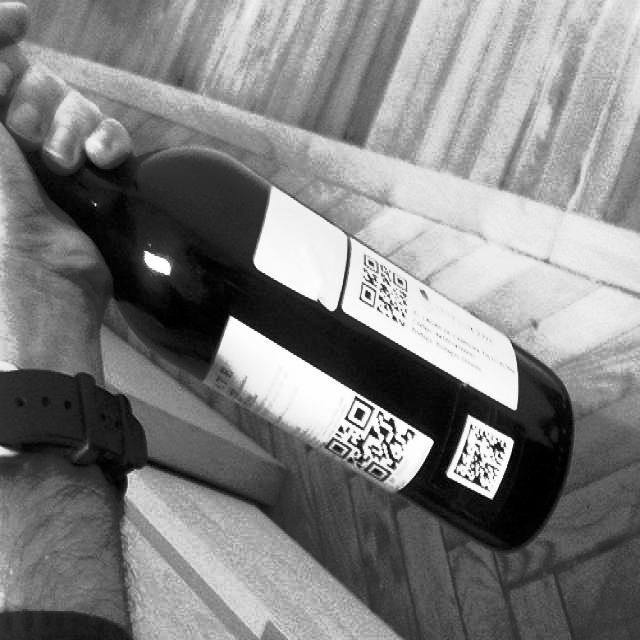qr_code: (324, 396, 416, 483), (360, 252, 408, 325)
